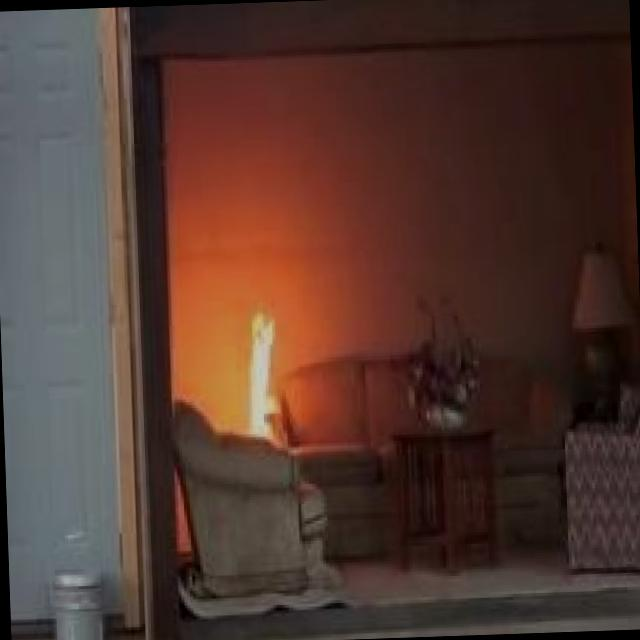fire: (210, 300, 292, 442)
